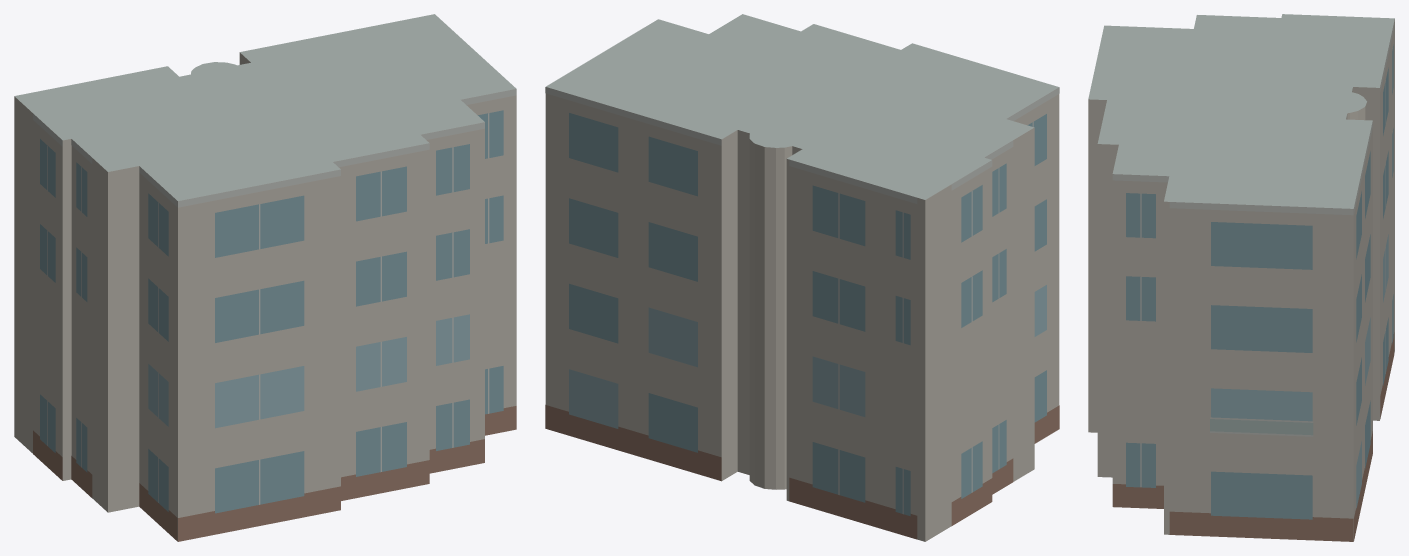
The model's file is survey-upis-32929888.glb.
3 views of the same model, side by side, from view 1: azimuth 30°, elevation 25°; view 2: azimuth 150°, elevation 25°; view 3: azimuth 270°, elevation 25° (orthographic). The views are drawn at different scales.
Visible parts, largest first — view 1: survey-upis-32929888.tmp; view 2: survey-upis-32929888.tmp; view 3: survey-upis-32929888.tmp.
Part boxes in pixels (x1,y1,x2,y2): survey-upis-32929888.tmp: (14,14,516,541); survey-upis-32929888.tmp: (545,14,1059,541); survey-upis-32929888.tmp: (1088,14,1394,541).
Bounding box in the file's own units: 16.08 × 12.8 × 10.69.
